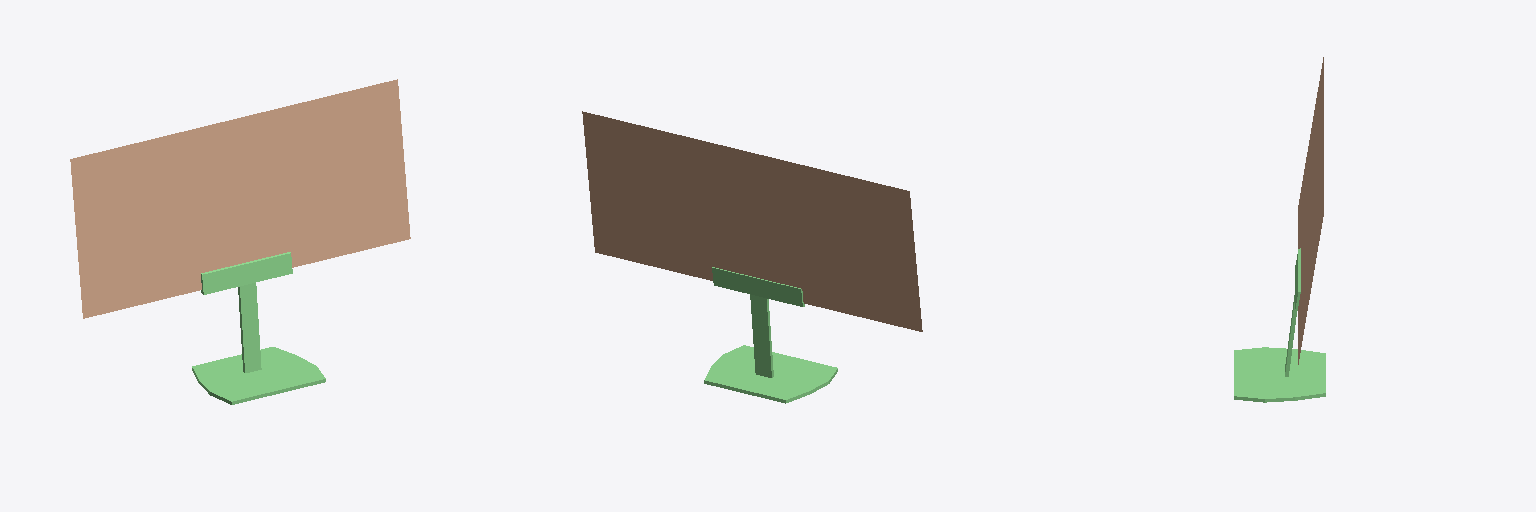
The model's file is asset_ordenador.obj.
The picture shows the model from 3 angles: view 1: azimuth 30°, elevation 25°; view 2: azimuth 150°, elevation 25°; view 3: azimuth 270°, elevation 25°; orthographic projection.
Visible parts, largest first — view 1: Plane001, Box001, Box003, Box002; view 2: Plane001, Box001, Box003, Box002; view 3: Box001, Plane001.
Part boxes in pixels (left/top/right/bottom): Plane001: left=70, top=79, right=410, bottom=318; Box001: left=192, top=347, right=325, bottom=404; Box003: left=201, top=252, right=292, bottom=294; Box002: left=238, top=283, right=261, bottom=372; Plane001: left=582, top=111, right=922, bottom=331; Box001: left=704, top=345, right=837, bottom=403; Box003: left=712, top=267, right=804, bottom=306; Box002: left=750, top=294, right=773, bottom=377; Box001: left=1234, top=347, right=1325, bottom=402; Plane001: left=1298, top=57, right=1323, bottom=364.
Size of the model in its own units: 45.83 by 32.28 by 11.17.